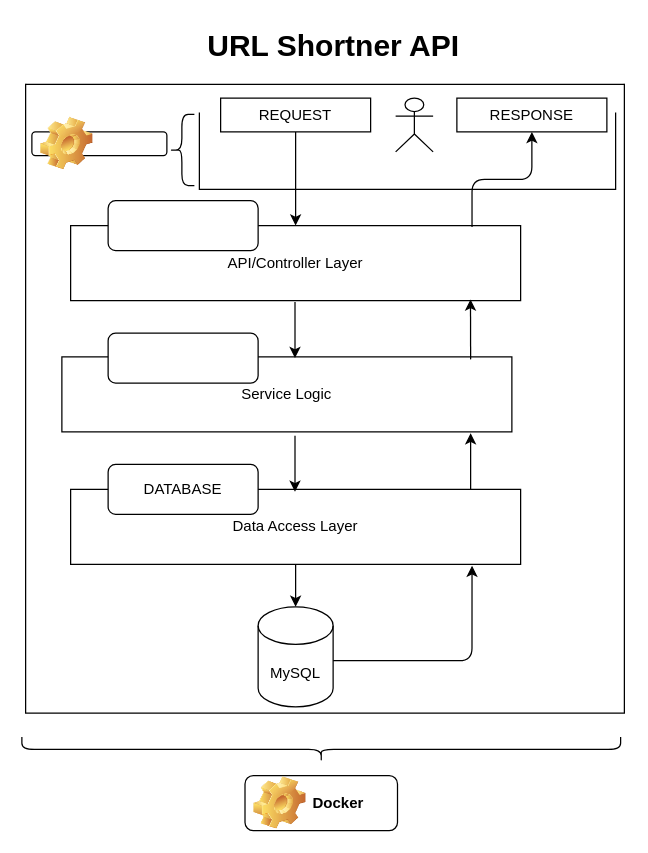
This 648x853 diagram has some shape labels left out. Each missing label, with the centre of its shape:
"Actor" belongs at [413,124].
"BUSINESS LOGIC" belongs at [182,357].
"HTTP, GET, POST" belongs at [182,225].
"Swagger" belongs at [99,143].
